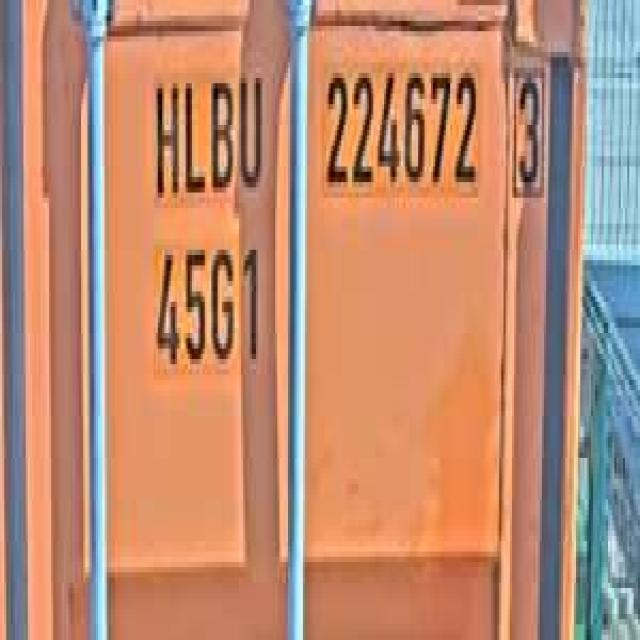dv: (506, 56, 549, 206)
owner: (149, 57, 267, 208)
serial: (318, 52, 482, 208)
size: (147, 229, 267, 380)
